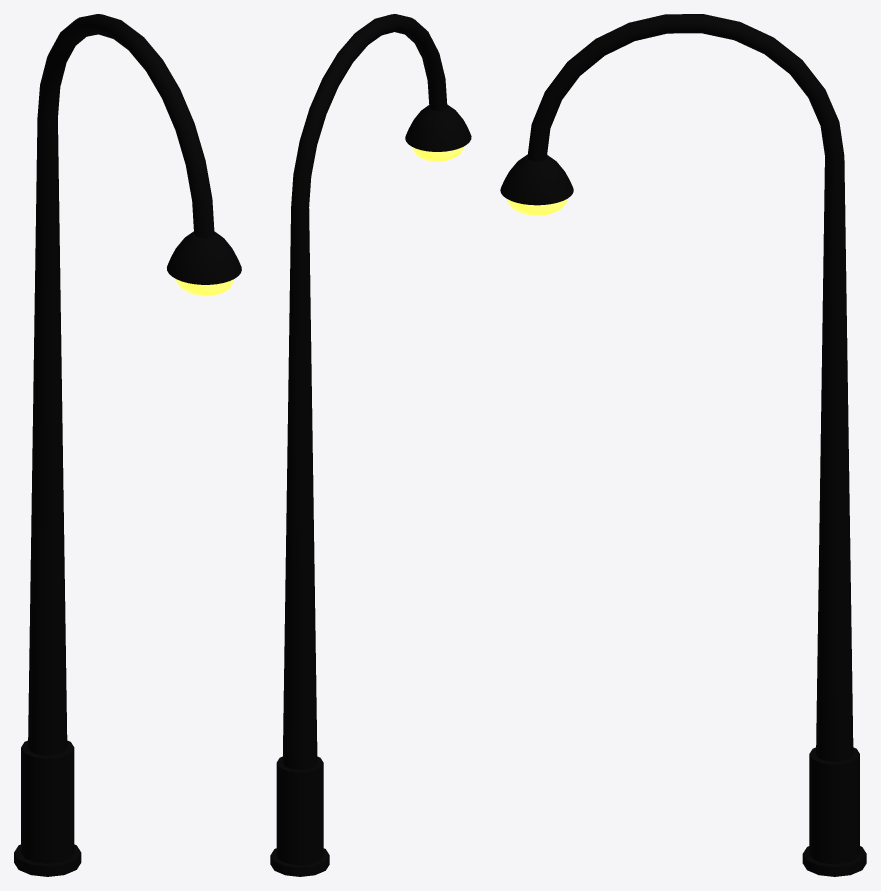
Rendered from lampu.fbx.
3 views of the same model, side by side, from view 1: azimuth 30°, elevation 25°; view 2: azimuth 150°, elevation 25°; view 3: azimuth 270°, elevation 25° (orthographic). The views are drawn at different scales.
Visible parts, largest first — view 1: FarolaModernaRodonaDe1.005_black_0.006; view 2: FarolaModernaRodonaDe1.005_black_0.006; view 3: FarolaModernaRodonaDe1.005_black_0.006.
Boxes of the visible parts, bbox=[...] form: FarolaModernaRodonaDe1.005_black_0.006: bbox=[14, 14, 241, 876]; FarolaModernaRodonaDe1.005_black_0.006: bbox=[270, 14, 471, 876]; FarolaModernaRodonaDe1.005_black_0.006: bbox=[500, 14, 866, 876].
Bounding box in the file's own units: 71.42 × 945 × 370.
